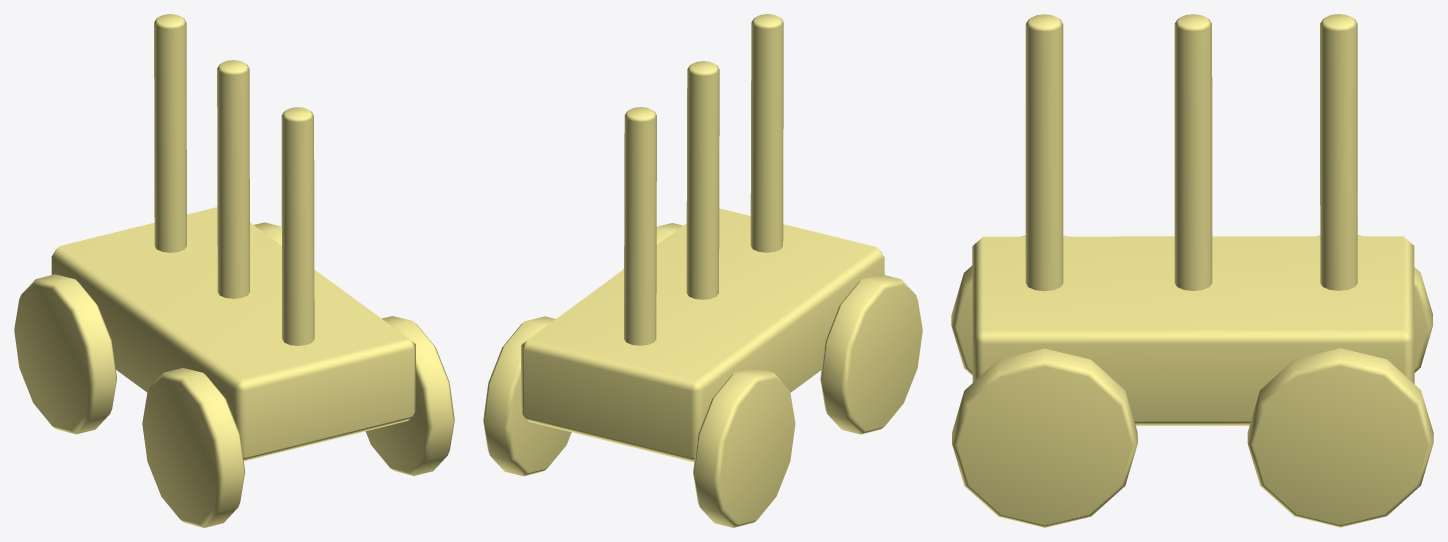
The model's file is Store_9_Toy_Car_1.glb.
The picture shows the model from 3 angles, left to right: view 1: azimuth 30°, elevation 25°; view 2: azimuth 150°, elevation 25°; view 3: azimuth 270°, elevation 25°; orthographic projection. The views are drawn at different scales.
Parts seen in each view (by area): view 1: Store_9_Toy_Car_1; view 2: Store_9_Toy_Car_1; view 3: Store_9_Toy_Car_1.
Boxes of the visible parts, bbox=[...] form: Store_9_Toy_Car_1: bbox=[14, 14, 454, 527]; Store_9_Toy_Car_1: bbox=[483, 14, 922, 527]; Store_9_Toy_Car_1: bbox=[951, 14, 1433, 527].
Bounding box in the file's own units: 0.8129 × 1.25 × 1.23.
Materials: 1 (1 with a texture image).
